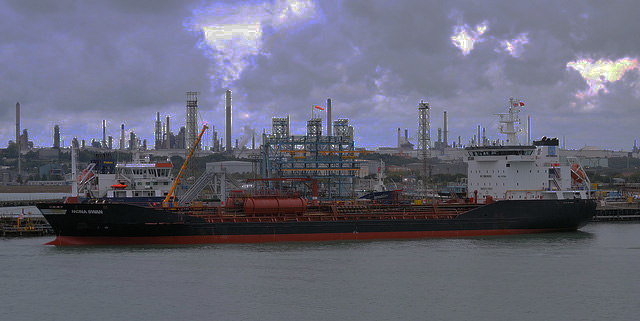tanker: (36, 109, 601, 241)
